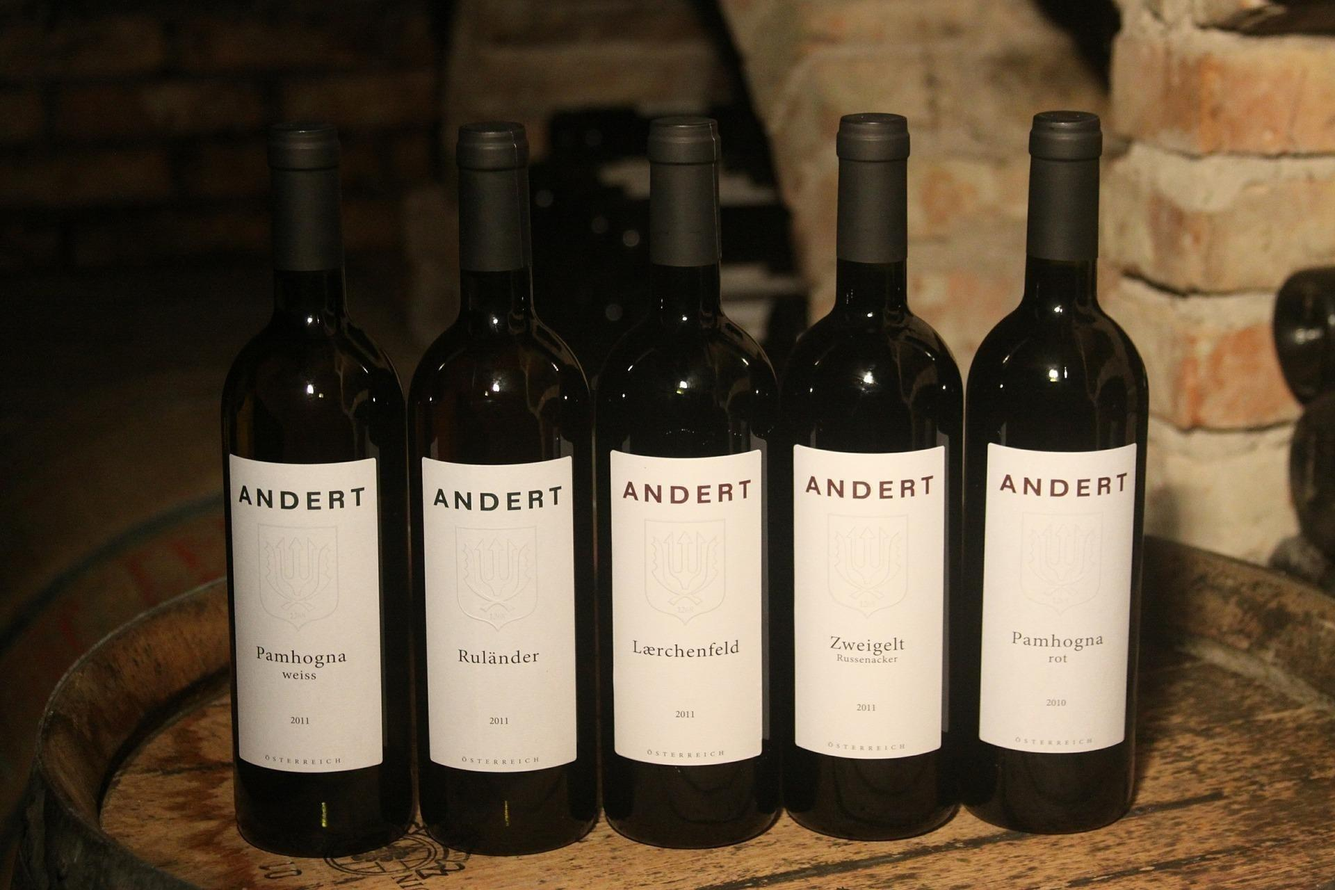bottle-glass: (763, 102, 974, 845), (403, 109, 610, 861), (215, 111, 420, 860), (583, 106, 788, 848), (946, 105, 1151, 841)
